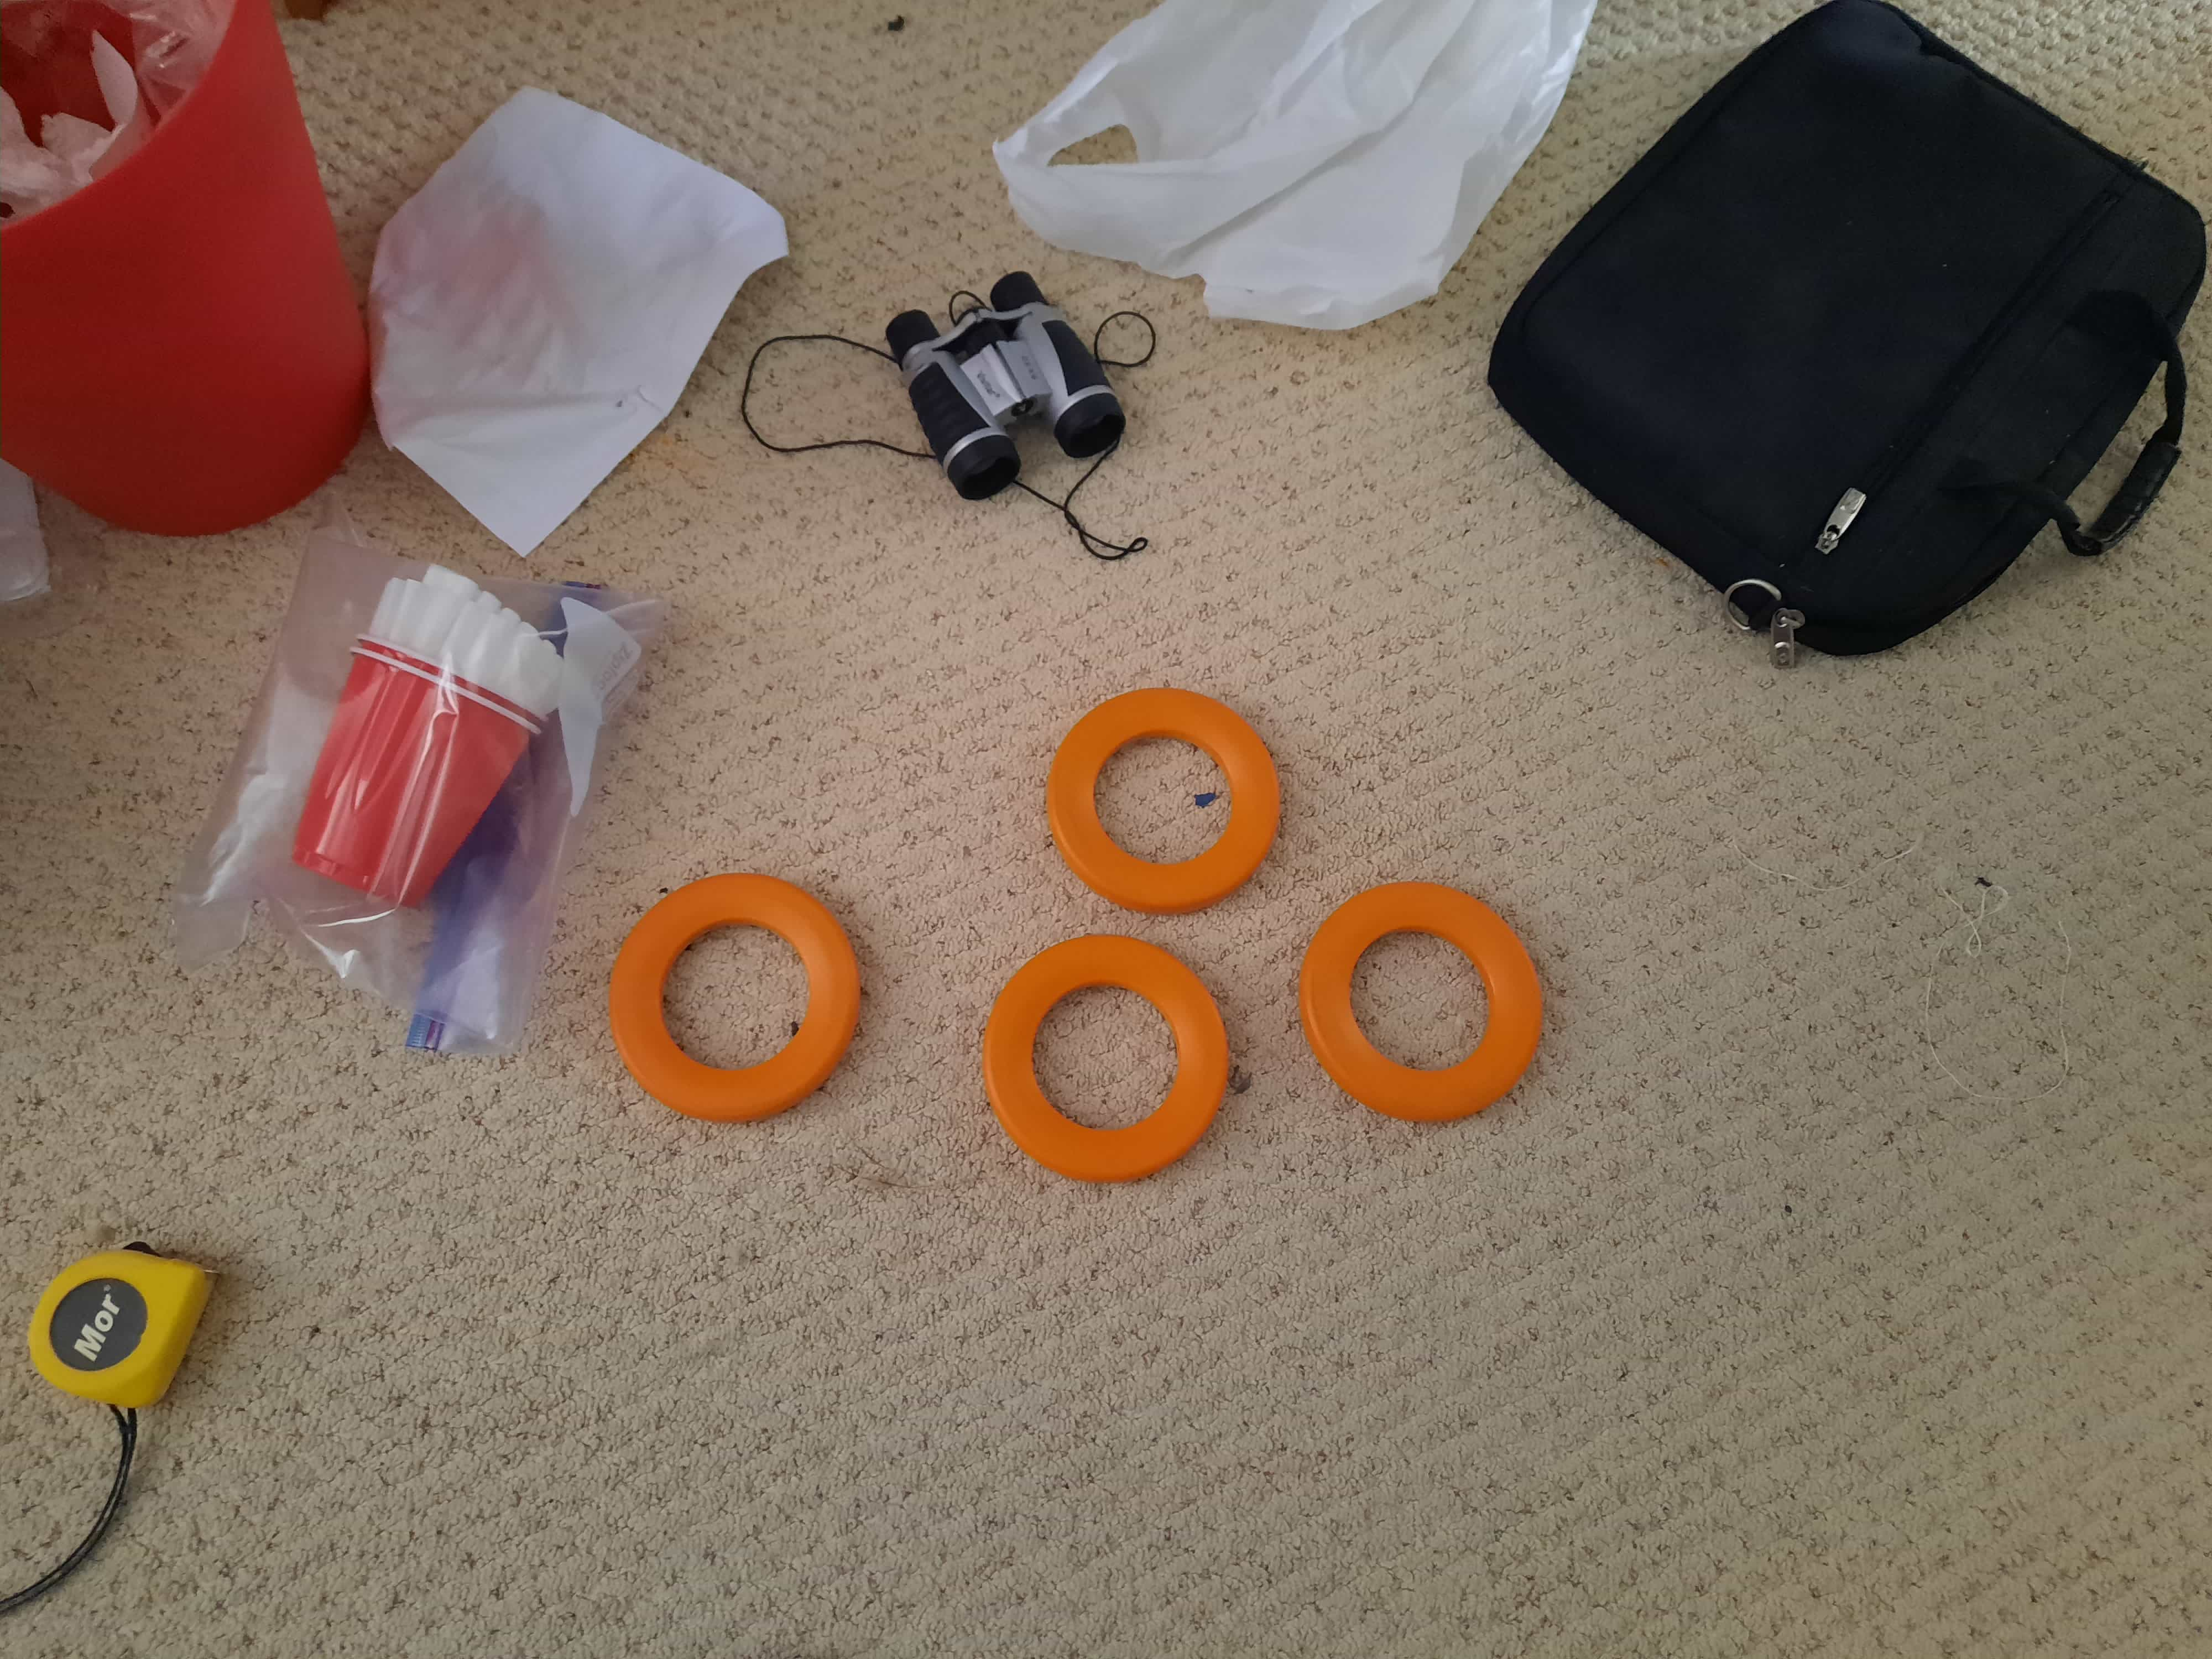OneStack: (613, 871, 862, 1112), (979, 943, 1228, 1175), (1305, 885, 1543, 1124), (1040, 688, 1280, 911)
